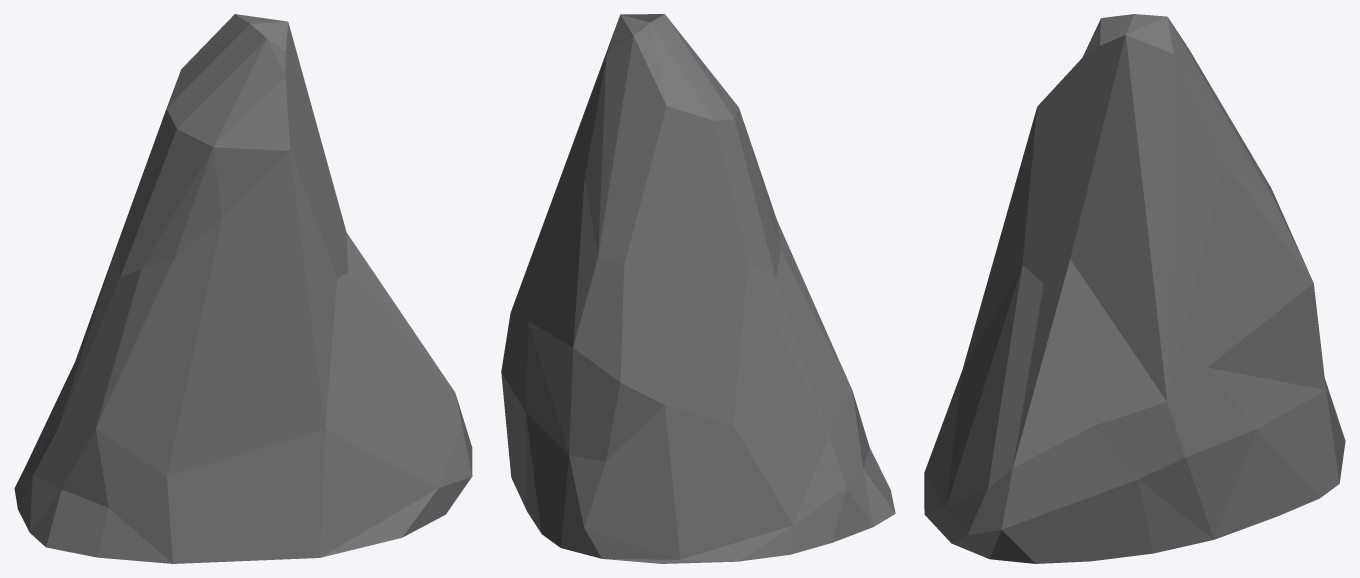
The model's file is rock3.fbx.
3 renders of one model, left to right at view 1: azimuth 30°, elevation 25°; view 2: azimuth 150°, elevation 25°; view 3: azimuth 270°, elevation 25°, orthographic. The views are drawn at different scales.
Parts seen in each view (by area): view 1: rock large2_LOD0; view 2: rock large2_LOD0; view 3: rock large2_LOD0.
Part boxes in pixels (bbox=[...]): rock large2_LOD0: bbox=[14, 14, 472, 563]; rock large2_LOD0: bbox=[501, 14, 895, 563]; rock large2_LOD0: bbox=[924, 14, 1345, 563].
Size of what is drawn, in the model's own units: 9.68 by 10.92 by 8.79.
